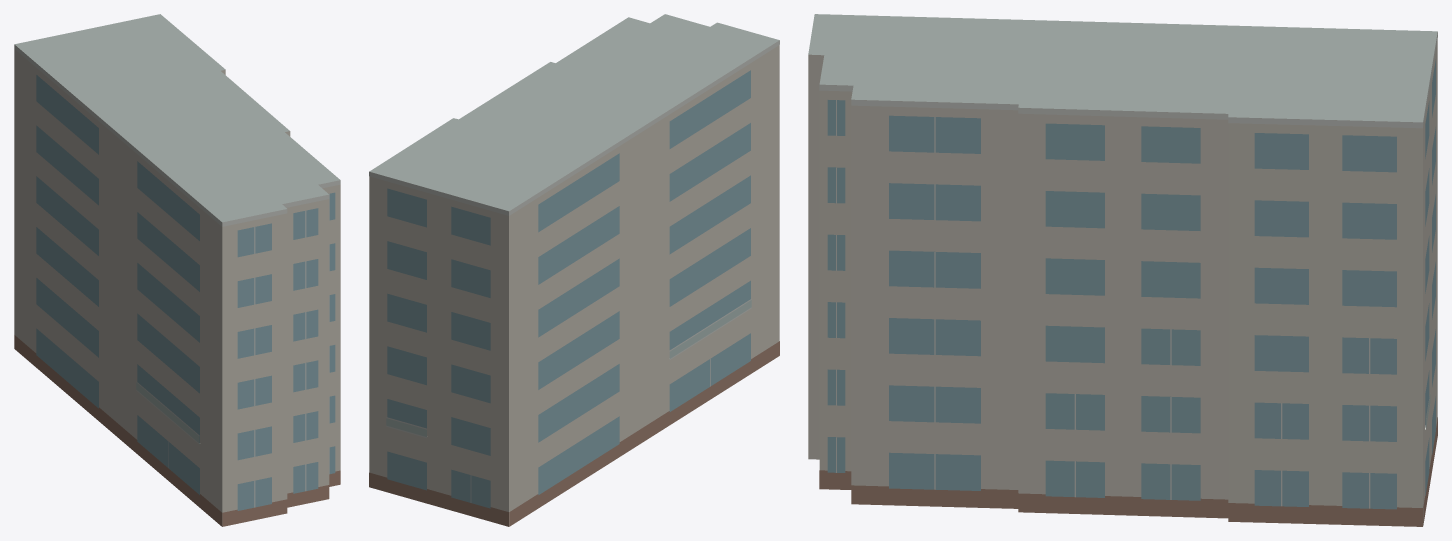
The model's file is survey-upis-33011471.glb.
3 views of the same model, side by side, from view 1: azimuth 30°, elevation 25°; view 2: azimuth 150°, elevation 25°; view 3: azimuth 270°, elevation 25° (orthographic). The views are drawn at different scales.
Parts seen in each view (by area): view 1: survey-upis-33011471.tmp; view 2: survey-upis-33011471.tmp; view 3: survey-upis-33011471.tmp.
Part boxes in pixels (bbox=[...]): survey-upis-33011471.tmp: bbox=[14, 14, 340, 526]; survey-upis-33011471.tmp: bbox=[369, 14, 779, 526]; survey-upis-33011471.tmp: bbox=[808, 14, 1437, 526].
Bounding box in the file's own units: 9.55 × 16.6 × 23.42.
